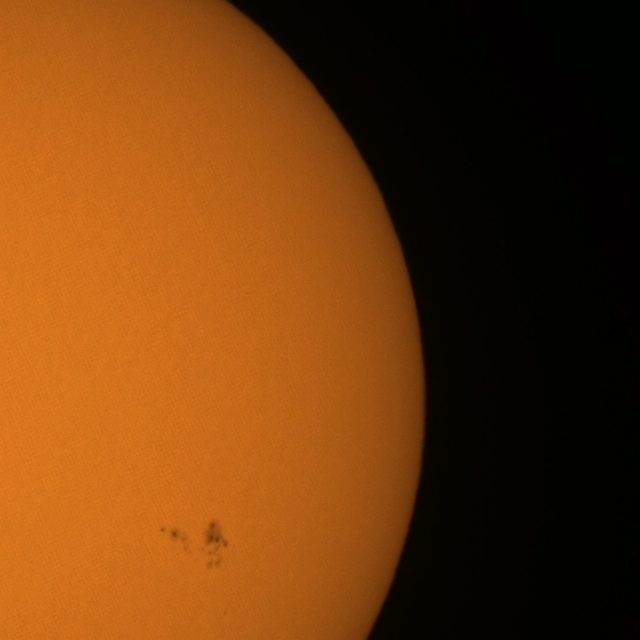sunspot: (167, 518, 234, 568), (204, 520, 229, 556), (160, 526, 188, 544)
